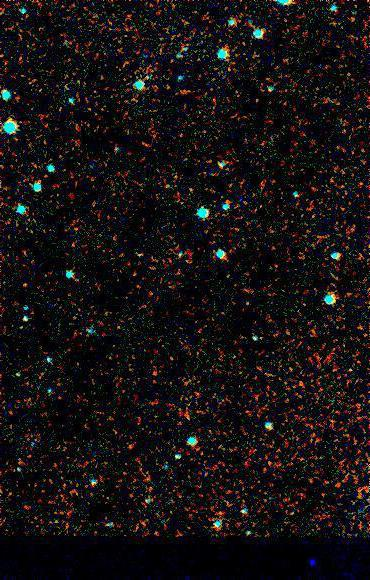star: (14, 267, 44, 297)
